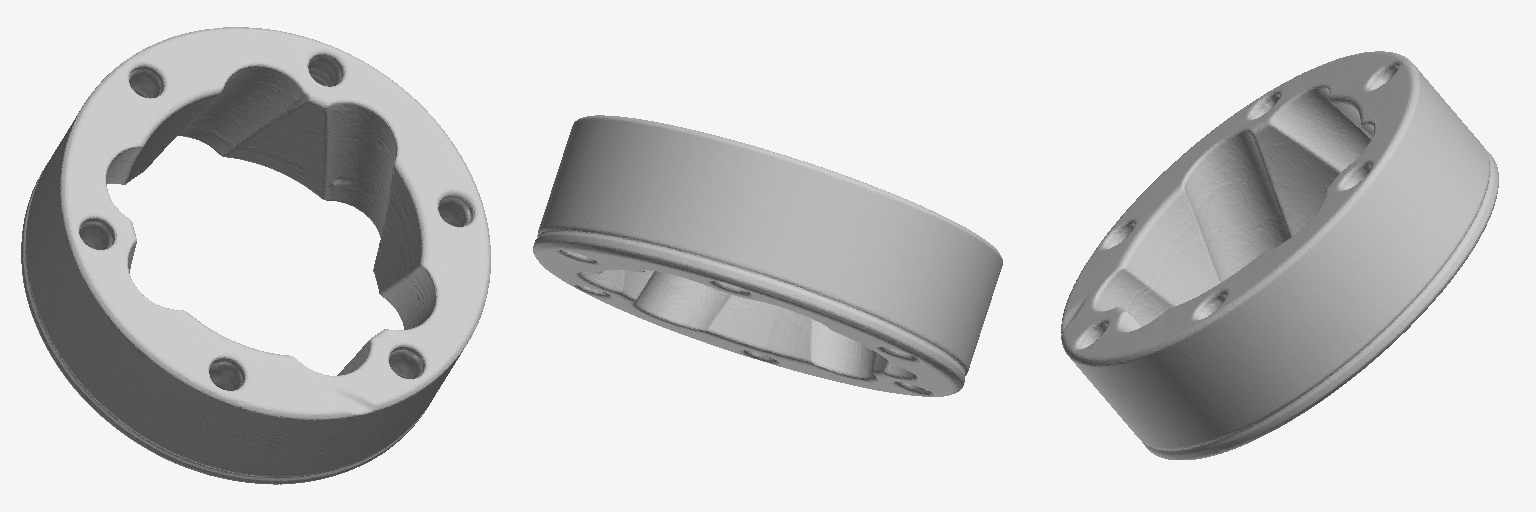
Rendered from rolling_stage.obj.
3 views of the same model, side by side, from view 1: azimuth 30°, elevation 25°; view 2: azimuth 150°, elevation 25°; view 3: azimuth 270°, elevation 25° (orthographic).
Bounding box in the file's own units: 1.92 × 1.62 × 1.86.